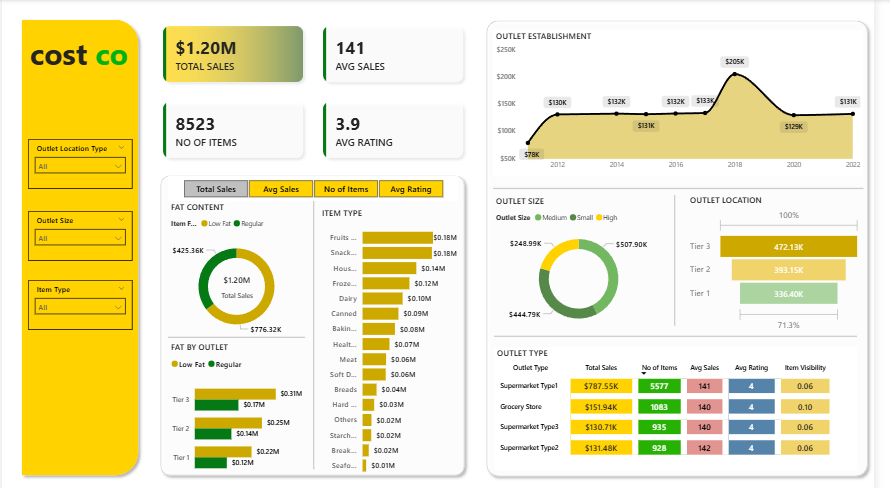

The dashboard page shown, as its layout file describes it:
{"tool":"powerbi","page":{"name":"Page 1","canvas":[1400,800],"ordinal":0},"visuals":[{"type":"shape","box":[22.5,24.1,205.6,750.2],"z":0},{"type":"textbox","box":[32.1,49.8,183.1,75.5],"z":1000},{"type":"cardVisual","fields":{"Data":["Costco Grocery Data.Total Sales","Costco Grocery Data.Avg Sales","Costco Grocery Data.No of Items","Costco Grocery Data.Avg Rating"]},"box":[230,14.3,540,270],"z":2000},{"type":"shape","box":[245.8,274.7,506,499.6],"z":3000},{"type":"donutChart","title":"FAT CONTENT","fields":{"Y":["Costco Grocery Data.Total Sales"],"Category":["Costco Grocery Data.Item Fat Content"]},"box":[267.1,324.3,220,230],"z":4000},{"type":"slicer","fields":{"Values":["Metrics.Metrics"]},"box":[267.1,284.3,465.7,40],"z":5000},{"type":"card","fields":{"Values":["Costco Grocery Data.Total Sales"]},"box":[338.6,432.9,77.1,58.6],"z":6000},{"type":"clusteredBarChart","title":"FAT BY OUTLET","fields":{"Y":["Costco Grocery Data.Total Sales"],"Category":["Costco Grocery Data.Outlet Location Type"],"Series":["Costco Grocery Data.Item Fat Content"]},"box":[267.1,550,220,230],"z":7000},{"type":"shape","box":[267.1,528.6,220,30],"z":8000},{"type":"shape","box":[497.1,324.3,8.6,431.4],"z":9000},{"type":"barChart","title":"ITEM TYPE","fields":{"Y":["Costco Grocery Data.Total Sales"],"Category":["Costco Grocery Data.Item Type"]},"box":[508.6,334.3,227.1,440],"z":10000},{"type":"shape","box":[770,25,630,750],"z":10001},{"type":"lineChart","title":"OUTLET ESTABLISHMENT","fields":{"Category":["Costco Grocery Data.Outlet Establishment Year"],"Y":["Costco Grocery Data.Total Sales"]},"box":[788.3,50,595,235],"z":10002},{"type":"shape","box":[788.3,285,595,40],"z":10003},{"type":"donutChart","title":"OUTLET SIZE","fields":{"Y":["Costco Grocery Data.Total Sales"],"Category":["Costco Grocery Data.Outlet Size"]},"box":[788.3,315,275,225],"z":10004},{"type":"shape","box":[1073.3,315,15,210],"z":10005},{"type":"funnel","title":"OUTLET LOCATION","fields":{"Category":["Costco Grocery Data.Outlet Location Type"],"Y":["Sum(Costco Grocery Data.Sales)"]},"box":[1100,313.3,283.3,226.7],"z":10006},{"type":"pivotTable","title":"OUTLET TYPE","fields":{"Rows":["Costco Grocery Data.Outlet Type"],"Values":["Costco Grocery Data.Total Sales","Costco Grocery Data.No of Items","Costco Grocery Data.Avg Sales","Costco Grocery Data.Avg Rating","Avg(Costco Grocery Data.Item Visibility)"]},"box":[790,558.3,583.3,198.3],"z":10007},{"type":"shape","box":[790,528.3,583.3,26.7],"z":10008},{"type":"slicer","fields":{"Values":["Costco Grocery Data.Outlet Location Type"]},"box":[41.7,225,168.3,80],"z":10009},{"type":"slicer","fields":{"Values":["Costco Grocery Data.Outlet Size"]},"box":[41.7,340,168.3,80],"z":10010},{"type":"slicer","fields":{"Values":["Costco Grocery Data.Item Type"]},"box":[41.7,451.7,168.3,80],"z":10011}]}

Visuals, with their boxes on the page's 1400x800 design canvas (x1, y1, x2, y2). These are canvas units, not pixel positions in the 890x488 screenshot, which may show the page scaled, cropped or inside an application window:
shape: box(22, 24, 228, 774)
textbox: box(32, 50, 215, 125)
cardVisual - Costco Grocery Data.Total Sales x Costco Grocery Data.Avg Sales: box(230, 14, 770, 284)
shape: box(246, 275, 752, 774)
"FAT CONTENT" donutChart: box(267, 324, 487, 554)
slicer - Metrics.Metrics: box(267, 284, 733, 324)
card - Costco Grocery Data.Total Sales: box(339, 433, 416, 492)
"FAT BY OUTLET" clusteredBarChart: box(267, 550, 487, 780)
shape: box(267, 529, 487, 559)
shape: box(497, 324, 506, 756)
"ITEM TYPE" barChart: box(509, 334, 736, 774)
shape: box(770, 25, 1400, 775)
"OUTLET ESTABLISHMENT" lineChart: box(788, 50, 1383, 285)
shape: box(788, 285, 1383, 325)
"OUTLET SIZE" donutChart: box(788, 315, 1063, 540)
shape: box(1073, 315, 1088, 525)
"OUTLET LOCATION" funnel: box(1100, 313, 1383, 540)
"OUTLET TYPE" pivotTable: box(790, 558, 1373, 757)
shape: box(790, 528, 1373, 555)
slicer - Costco Grocery Data.Outlet Location Type: box(42, 225, 210, 305)
slicer - Costco Grocery Data.Outlet Size: box(42, 340, 210, 420)
slicer - Costco Grocery Data.Item Type: box(42, 452, 210, 532)
